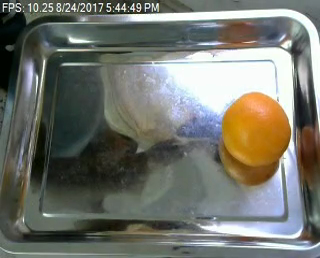Orange: (220, 90, 292, 168)
